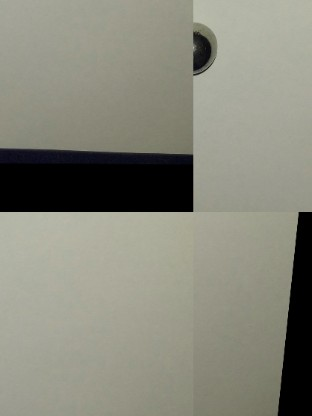ironball: (191, 20, 222, 76)
